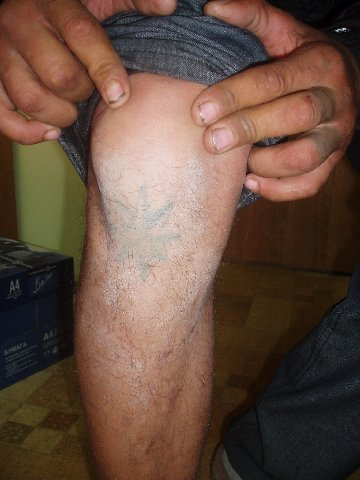tatu4_zvezda: (95, 181, 198, 284)
